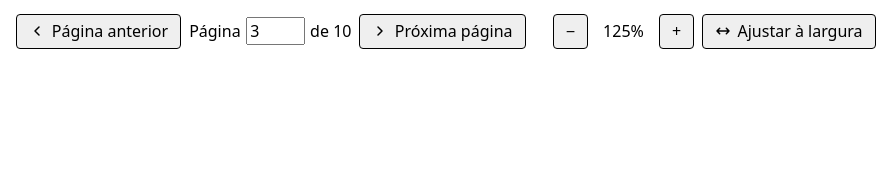
Test: BarraPdf › vai para a página digitada e ignora valores inválidos
The image size is (893, 172).
Replace the text in the number field with "7": (275, 31) [246, 17, 304, 45]
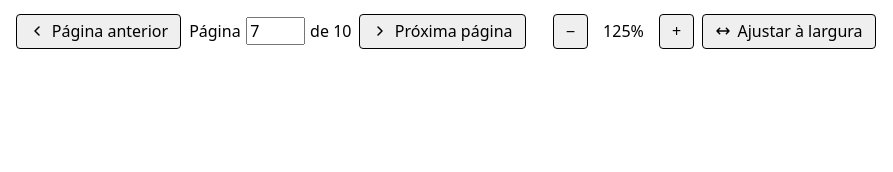
Replace the text in the number field with "99": (275, 31) [246, 17, 304, 45]
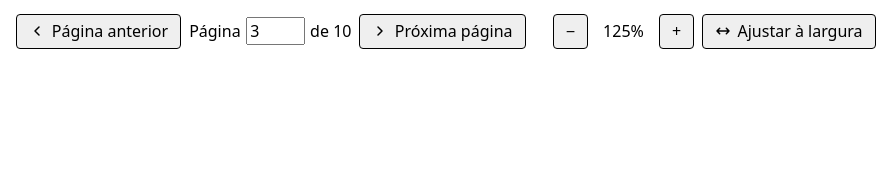
Check: the number field holds "3", box [246, 17, 304, 45]
